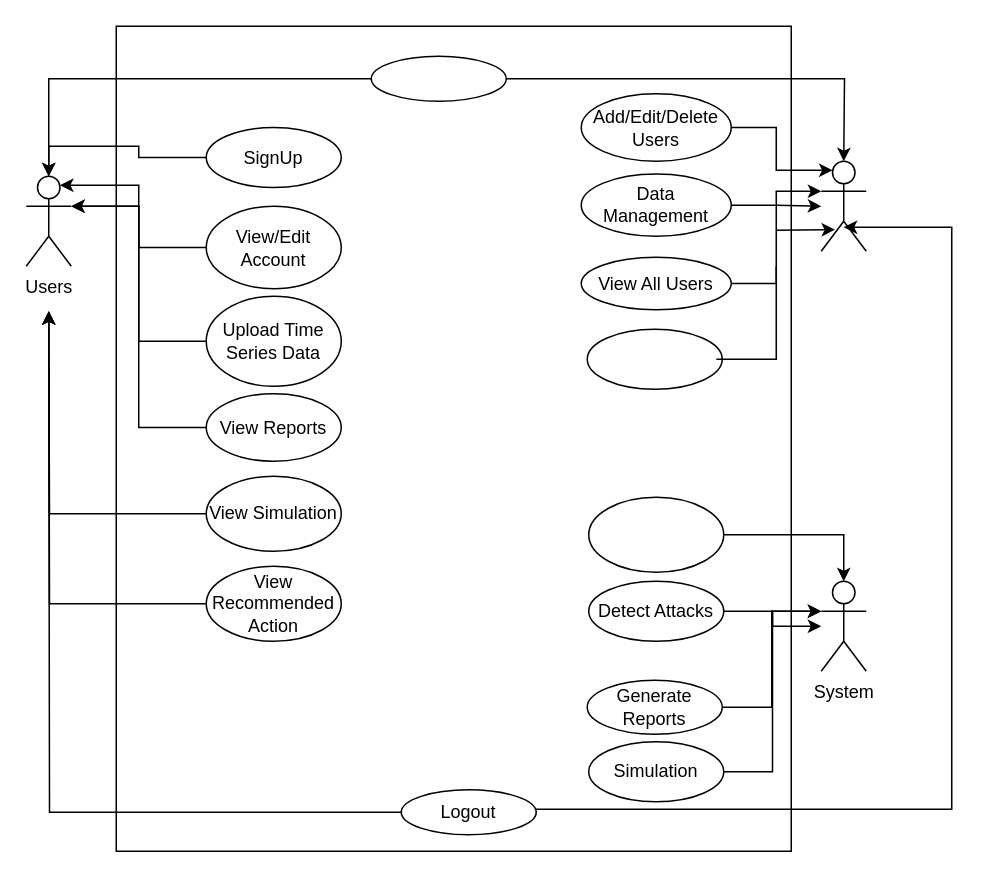
Image size: 990x878. Some labels were removed from this diagram. Here are the shapes that lost their labels. From the top down, the centre of each, then its label:
the point at 438,78: Login
the point at 843,205: Admin
the point at 654,358: View Dataset
the point at 655,534: Recommend Action
